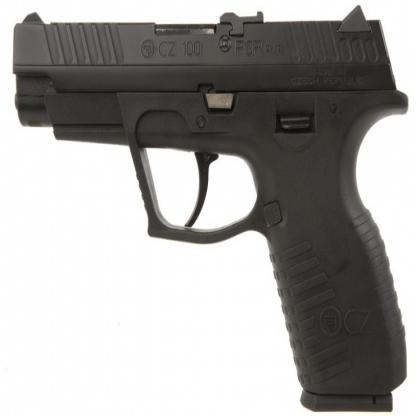gun: (3, 2, 409, 416)
